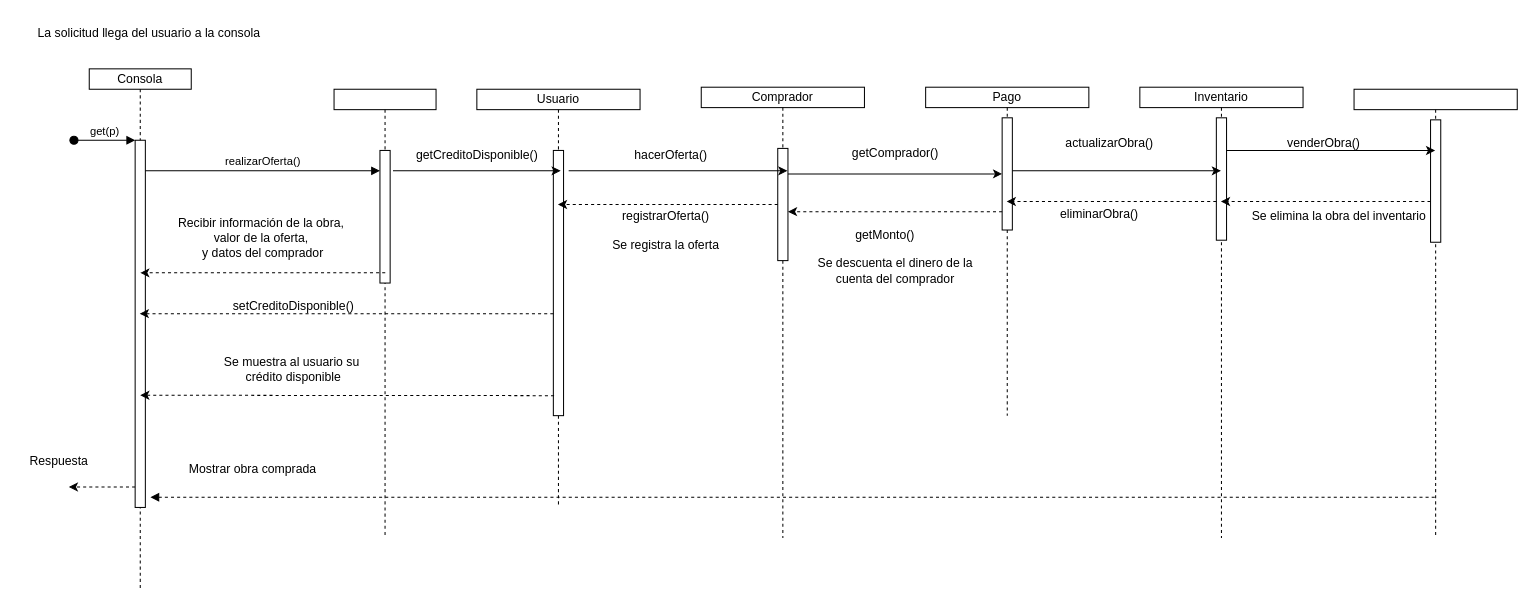
Some shapes in this 1535 by 607 pixel diagram are drawn without their labels. The shapes that lost their labels are listed below. From the top down, each one's box as (x1, y1, x2, y2) in pixels, then its label:
(333, 88, 436, 538): Subasta
(1353, 88, 1517, 538): GaleriaDeArte
